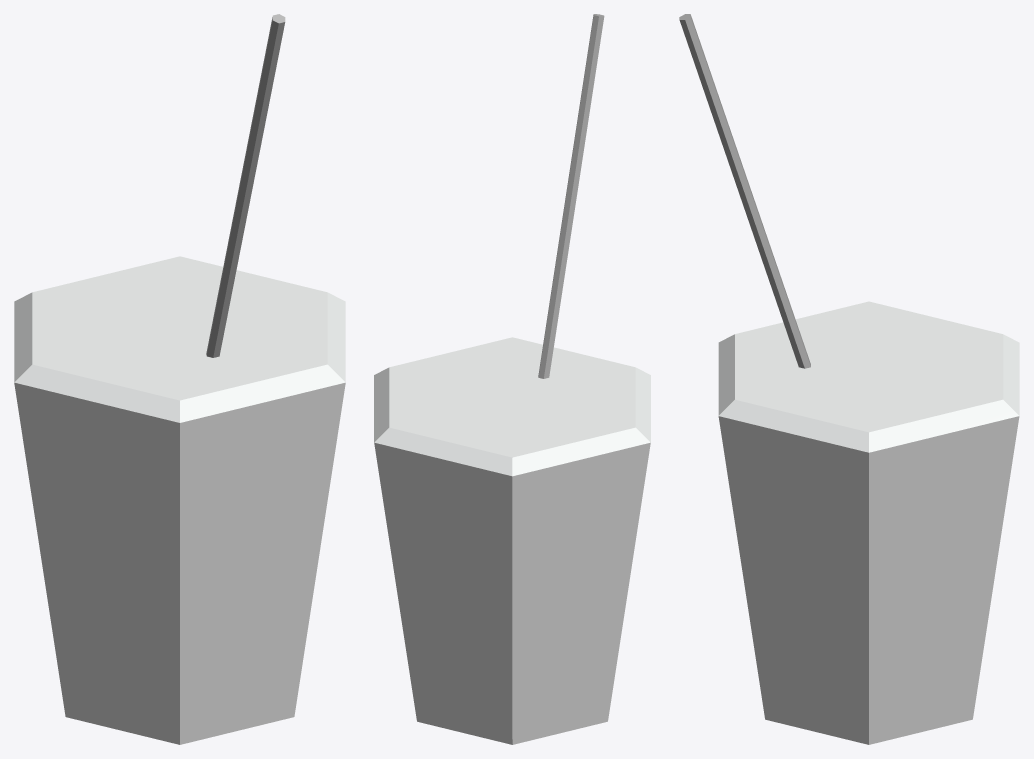
The model's file is Pepsi.fbx.
3 renders of one model, left to right at view 1: azimuth 30°, elevation 25°; view 2: azimuth 150°, elevation 25°; view 3: azimuth 270°, elevation 25°, orthographic. The views are drawn at different scales.
Parts seen in each view (by area): view 1: nuoc_ngot21; view 2: nuoc_ngot21; view 3: nuoc_ngot21.
Part boxes in pixels (x1,y1,x2,y2): nuoc_ngot21: [14, 14, 345, 744]; nuoc_ngot21: [374, 14, 650, 744]; nuoc_ngot21: [679, 14, 1019, 744].
Bounding box in the file's own units: 0.2067 × 0.4448 × 0.2022.
1 material, 1 textured.
